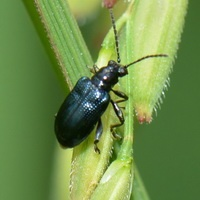insect: (55, 6, 167, 153)
